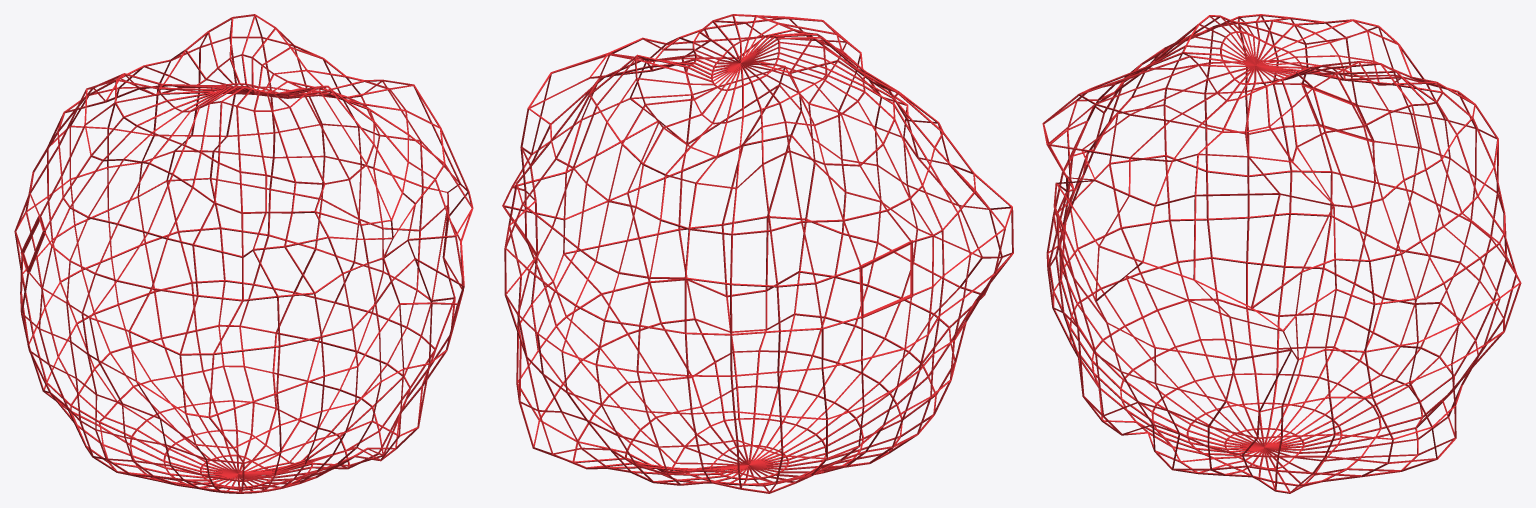
Rendered from redENTITY_C3.glb.
The picture shows the model from 3 angles, left to right: view 1: azimuth 30°, elevation 25°; view 2: azimuth 150°, elevation 25°; view 3: azimuth 270°, elevation 25°; orthographic projection. The views are drawn at different scales.
Visible parts, largest first — view 1: entity1_3; view 2: entity1_3; view 3: entity1_3.
Boxes of the visible parts, bbox=[...] form: entity1_3: bbox=[14, 14, 473, 493]; entity1_3: bbox=[502, 14, 1013, 493]; entity1_3: bbox=[1042, 14, 1521, 493].
Bounding box in the file's own units: 3.5 × 3.36 × 3.37.
